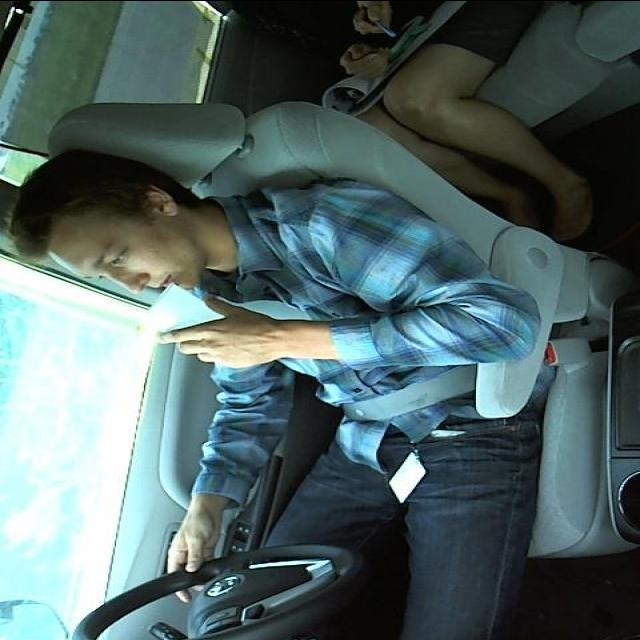drinking: (135, 278, 275, 370)
